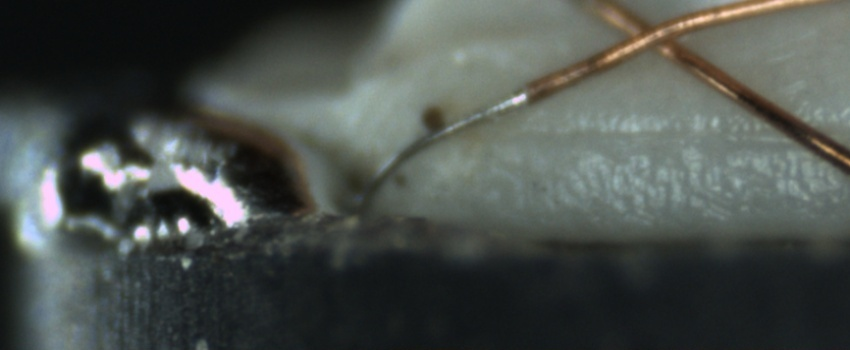CL: (607, 5, 695, 65)
DL: (499, 103, 849, 161)
TS: (353, 89, 528, 215)
TTCW: (355, 66, 579, 220)
